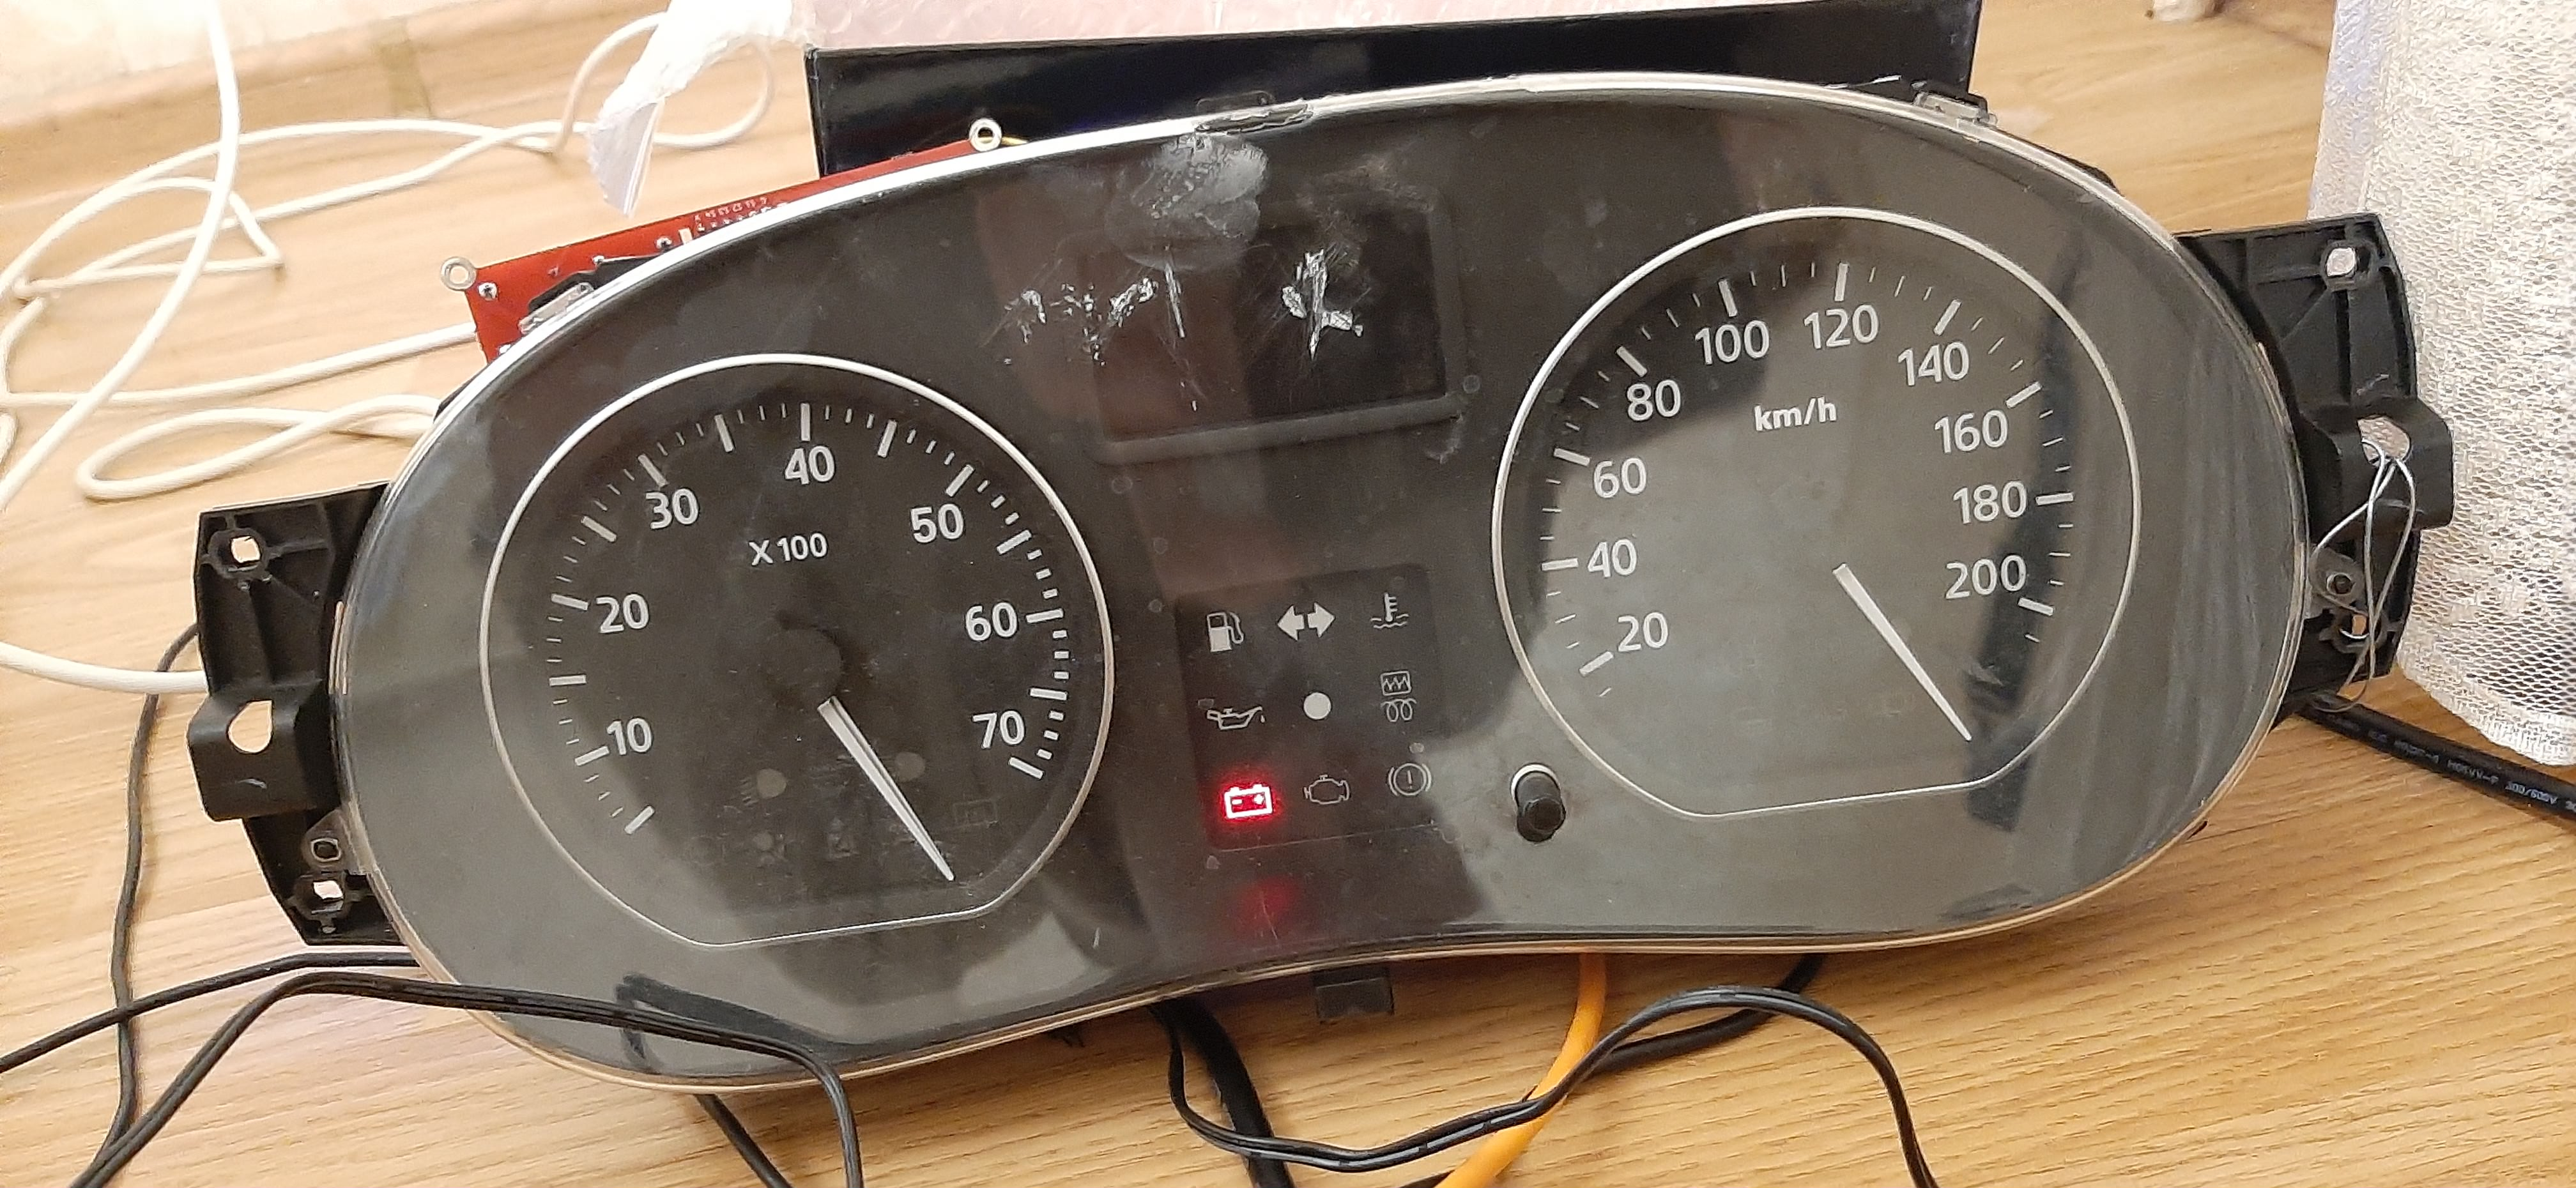accomulator11: (1222, 779, 1285, 823)
